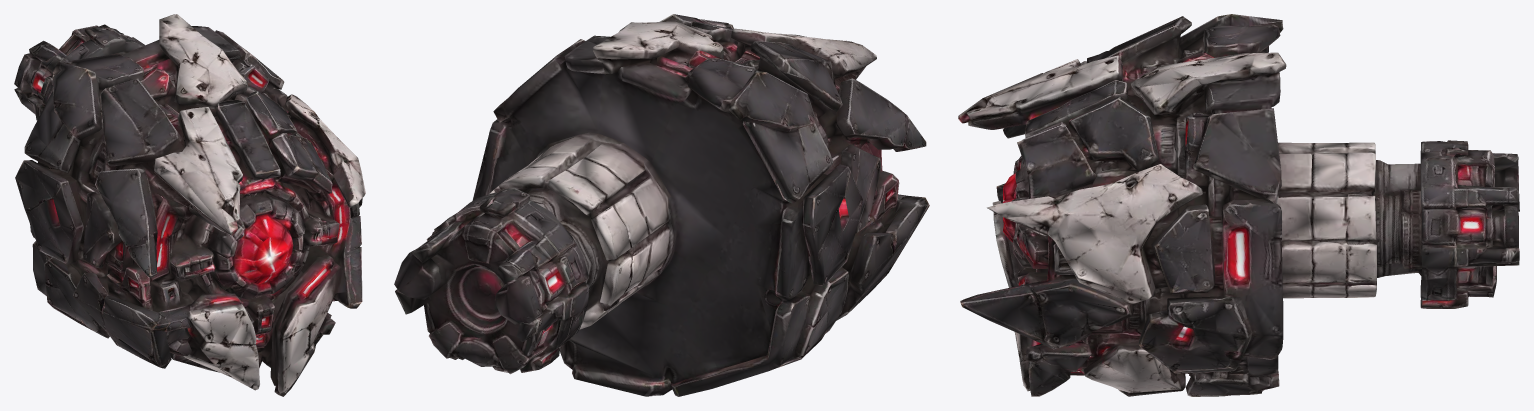
Rendered from boss_pod.glb.
3 renders of one model, left to right at view 1: azimuth 30°, elevation 25°; view 2: azimuth 150°, elevation 25°; view 3: azimuth 270°, elevation 25°, orthographic. The views are drawn at different scales.
Visible parts, largest first — view 1: tripo_node_fa9c56d1-c433-4cc7-b0c2-56996ba84de8; view 2: tripo_node_fa9c56d1-c433-4cc7-b0c2-56996ba84de8; view 3: tripo_node_fa9c56d1-c433-4cc7-b0c2-56996ba84de8.
Part boxes in pixels (x1,y1,x2,y2): tripo_node_fa9c56d1-c433-4cc7-b0c2-56996ba84de8: (14,14,365,396); tripo_node_fa9c56d1-c433-4cc7-b0c2-56996ba84de8: (394,14,929,396); tripo_node_fa9c56d1-c433-4cc7-b0c2-56996ba84de8: (958,14,1519,396).
Bounding box in the file's own units: 0.6329 × 0.6461 × 0.9764.
1 material, 1 textured.
